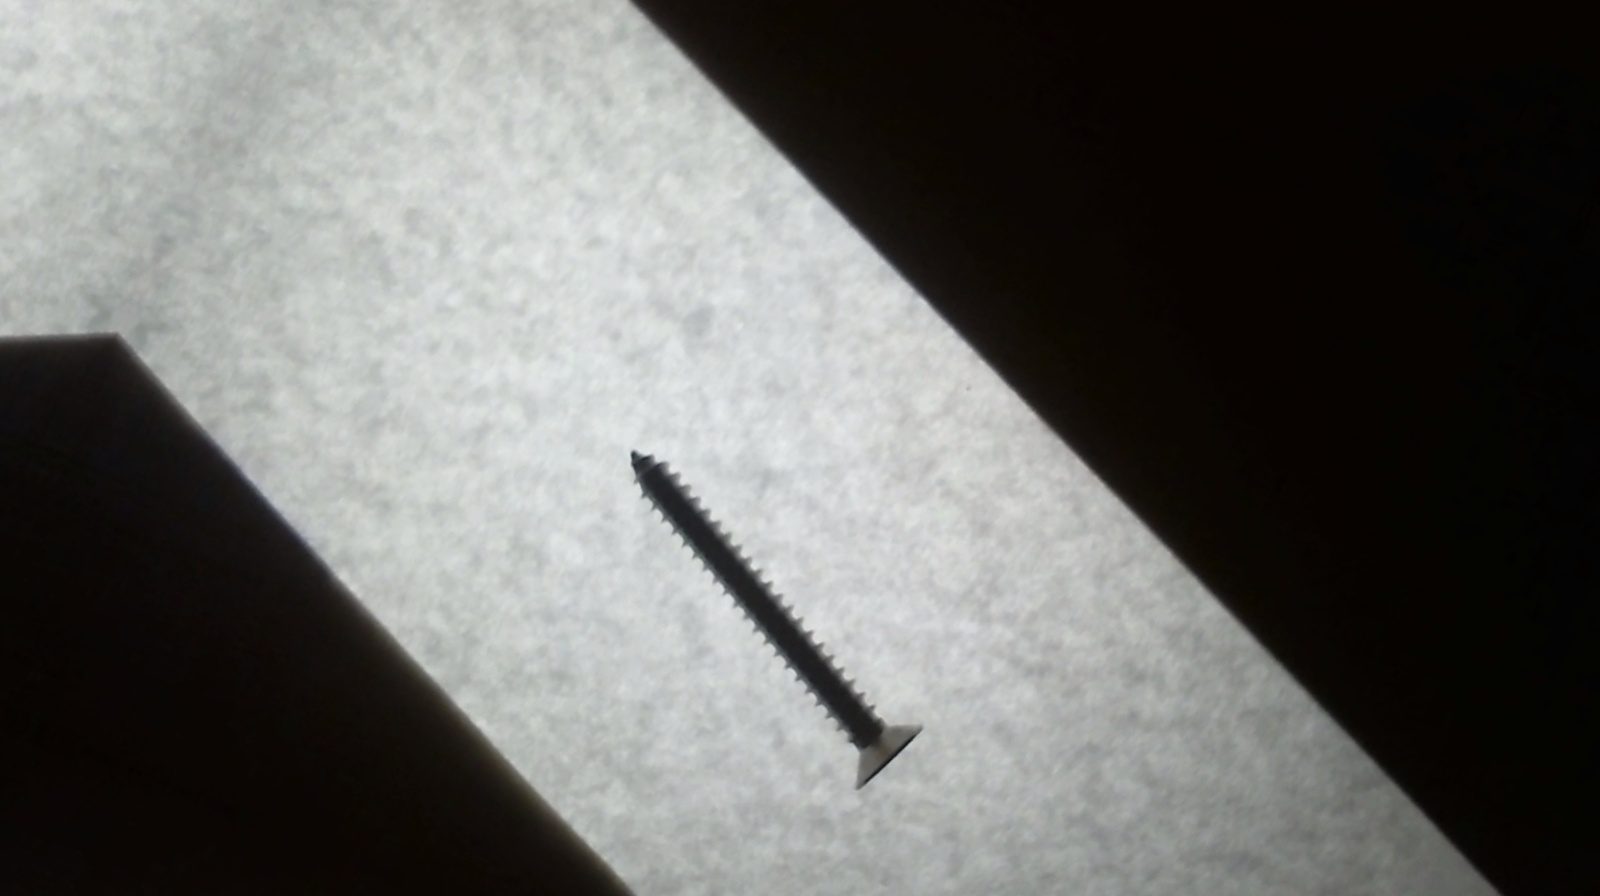S002: (491, 417, 1025, 820)
